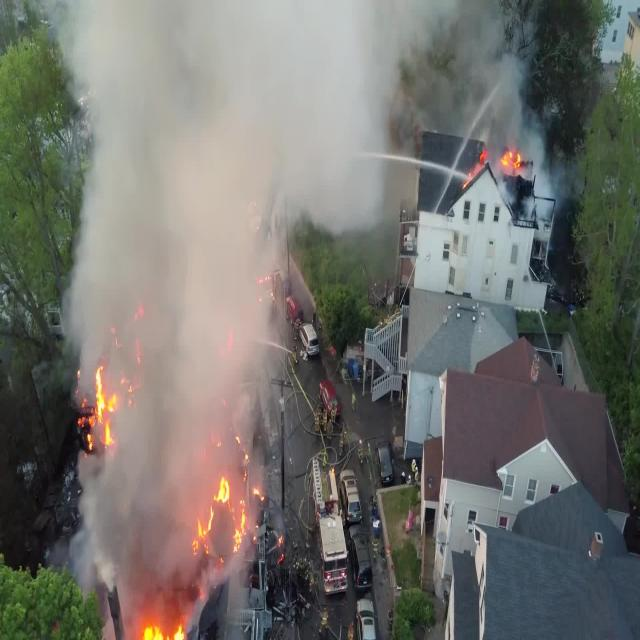Fire: (196, 433, 261, 561), (75, 359, 129, 457), (471, 128, 523, 204), (135, 594, 192, 640)
Smoke: (27, 6, 420, 338), (68, 333, 265, 638)
